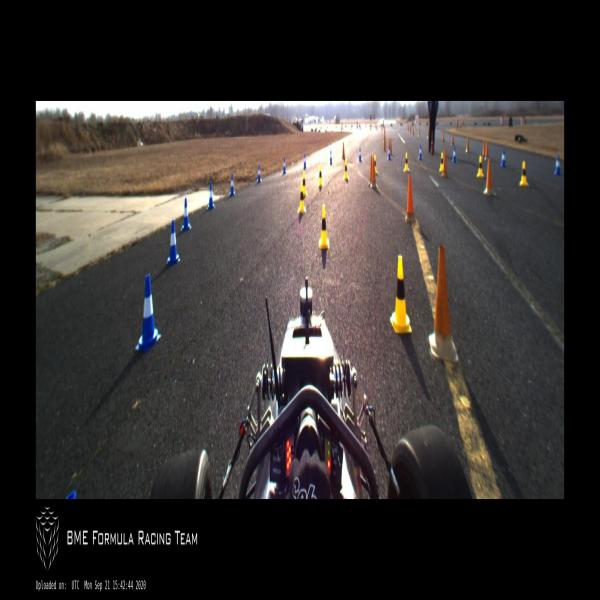blue_cone: (135, 275, 161, 351), (167, 220, 180, 264), (182, 198, 192, 232), (207, 182, 215, 210), (554, 155, 560, 175), (500, 151, 507, 167), (230, 174, 234, 196), (257, 164, 261, 183), (452, 147, 457, 162), (418, 144, 422, 160), (283, 158, 286, 174), (358, 147, 361, 162), (388, 146, 391, 160), (304, 154, 306, 169), (330, 150, 332, 165)
unknown_cone: (430, 245, 458, 360), (405, 175, 416, 223), (484, 158, 495, 195), (370, 156, 378, 190), (442, 150, 449, 178), (369, 155, 372, 187), (342, 142, 345, 159)
yellow_cone: (390, 256, 412, 332), (319, 206, 329, 248), (298, 184, 306, 213), (520, 160, 528, 184), (301, 172, 307, 195), (477, 156, 483, 176), (403, 153, 409, 172), (344, 158, 348, 180), (439, 152, 443, 172), (318, 167, 322, 186), (374, 155, 377, 173)
